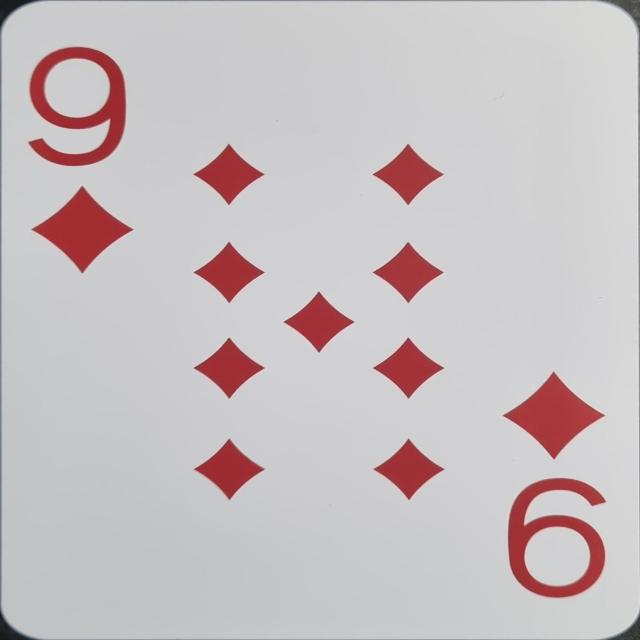9d: (487, 354, 621, 608), (20, 37, 144, 280)
